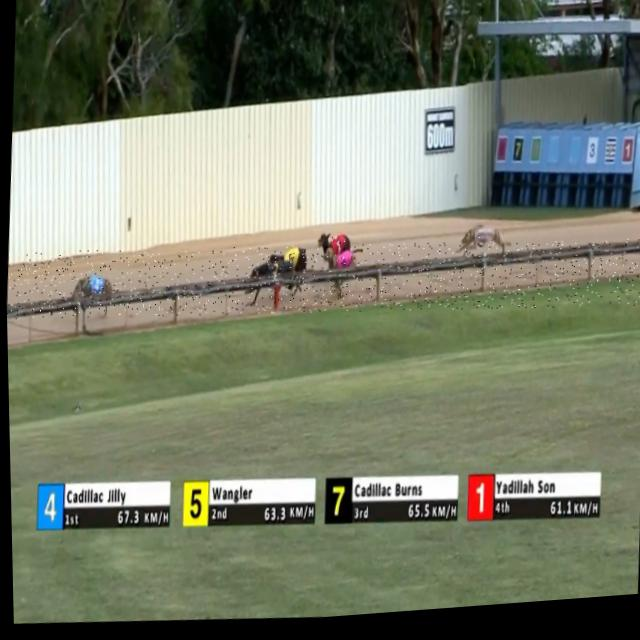dog_eight: (334, 254, 355, 278)
dog_five: (280, 247, 298, 278)
dog_four: (85, 276, 105, 302)
dog_one: (329, 235, 344, 261)
dog_seven: (267, 264, 284, 287)
dog_two: (473, 231, 492, 255)
rail: (6, 249, 640, 319)
